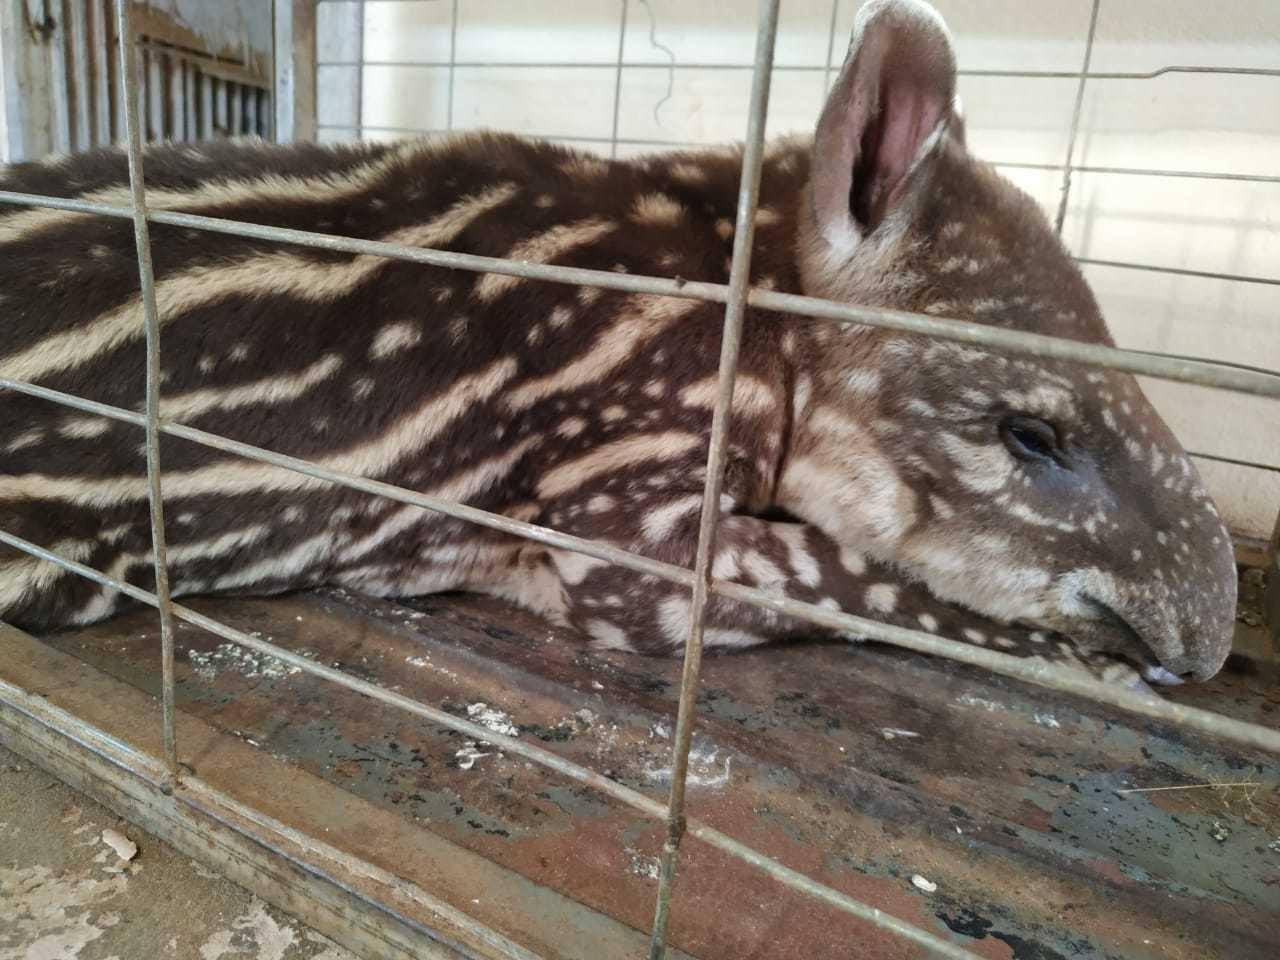Anta: (17, 26, 1241, 737)
